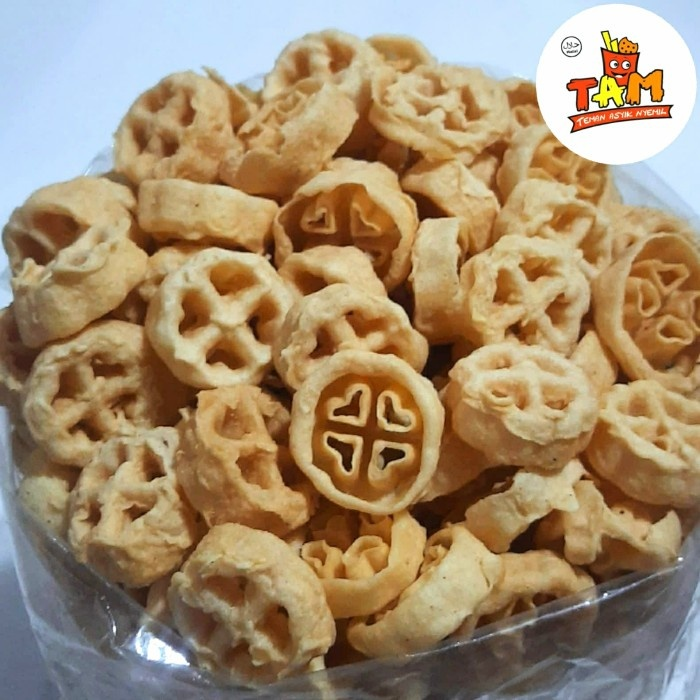kembang_goyang: (103, 232, 299, 407), (315, 352, 448, 523)
